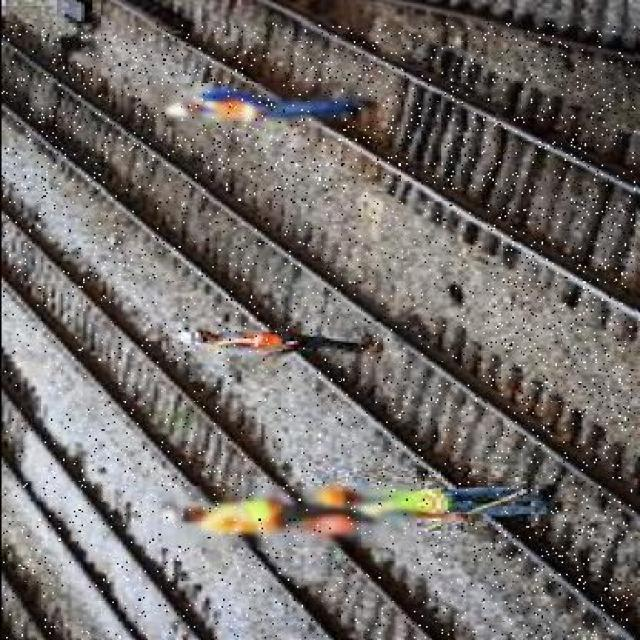rail: (1, 24, 635, 640), (2, 193, 487, 640), (100, 2, 639, 327)
